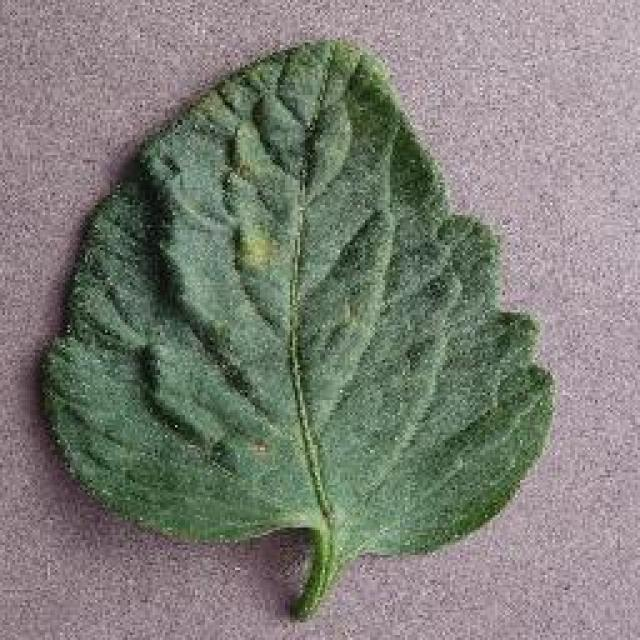Tomato Septoria spot leaf: (36, 35, 554, 565)
